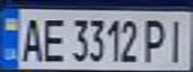1: (103, 16, 124, 63)
2: (118, 16, 142, 63)
3: (66, 15, 90, 63), (87, 16, 106, 63)
A: (18, 13, 45, 64)
E: (39, 13, 69, 64)
I: (163, 15, 193, 64)
P: (139, 15, 172, 64)
